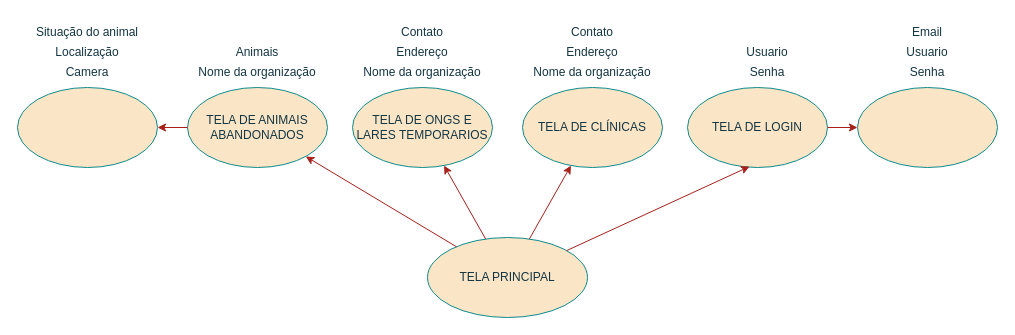
This 1015x335 diagram has some shape labels left out. Here are the shapes that lost their labels. From the top down, the centre of each, then its label:
At pixel 87 127: "TELA CHECKLIST".
At pixel 927 127: "TELA DE CADASTRO".
